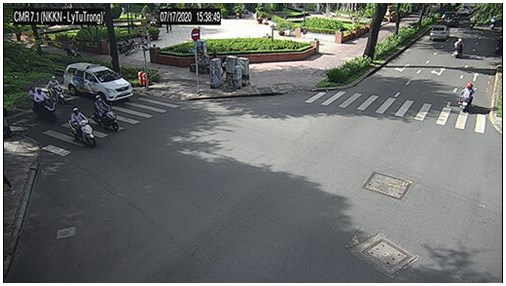xe_hoi: (430, 25, 450, 42), (440, 11, 459, 28)
xe_may: (68, 107, 97, 147), (90, 95, 120, 132), (29, 87, 58, 121), (46, 75, 66, 103), (460, 83, 473, 111), (64, 41, 83, 60), (118, 37, 139, 54), (454, 38, 464, 59), (468, 16, 477, 32), (489, 15, 497, 32)
xe_taxi: (63, 62, 135, 100)
